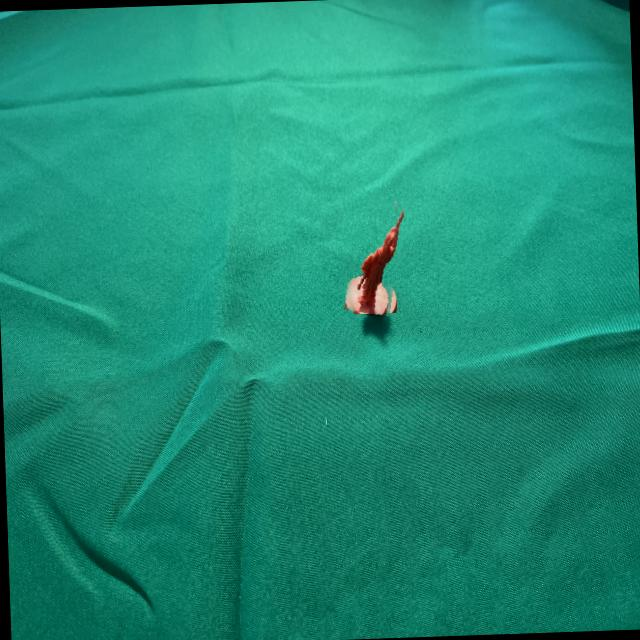amon_follower: (344, 208, 404, 315)
